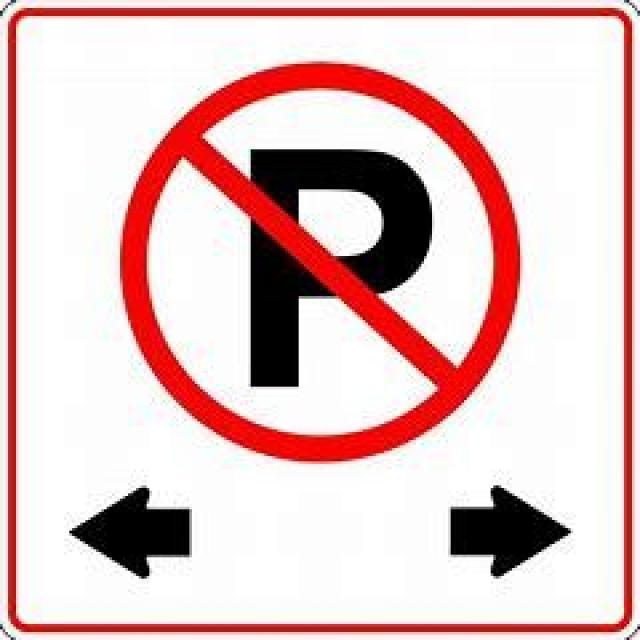no parking: (121, 59, 519, 464)
